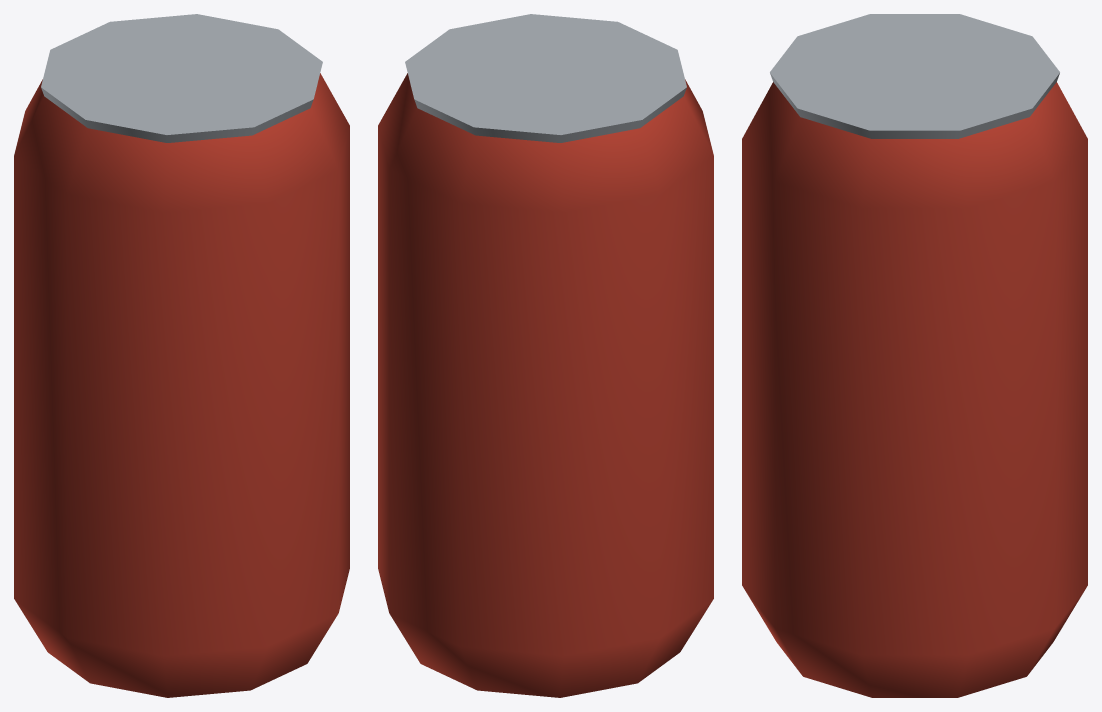
File: CAN.glb
3 renders of one model, left to right at view 1: azimuth 30°, elevation 25°; view 2: azimuth 150°, elevation 25°; view 3: azimuth 270°, elevation 25°, orthographic.
Visible parts, largest first — view 1: aluminium_0, steel_1; view 2: aluminium_0, steel_1; view 3: aluminium_0, steel_1.
Boxes of the visible parts, bbox=[...] form: aluminium_0: bbox=[14, 73, 349, 697]; steel_1: bbox=[41, 14, 322, 142]; aluminium_0: bbox=[378, 73, 713, 697]; steel_1: bbox=[405, 14, 686, 142]; aluminium_0: bbox=[742, 82, 1087, 697]; steel_1: bbox=[770, 14, 1059, 138].
Bounding box in the file's own units: 0.0628 × 0.12 × 0.066.
